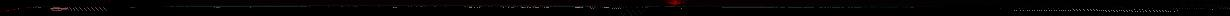Blue cone: (25, 7, 32, 8)
Yellow cone: (665, 0, 685, 5), (588, 5, 596, 8)
